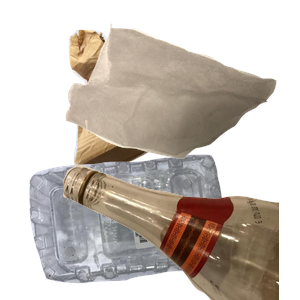cardboard: (66, 27, 242, 197)
glass: (60, 120, 300, 300)
plastic: (27, 152, 247, 300)
trash: (63, 21, 300, 172)
